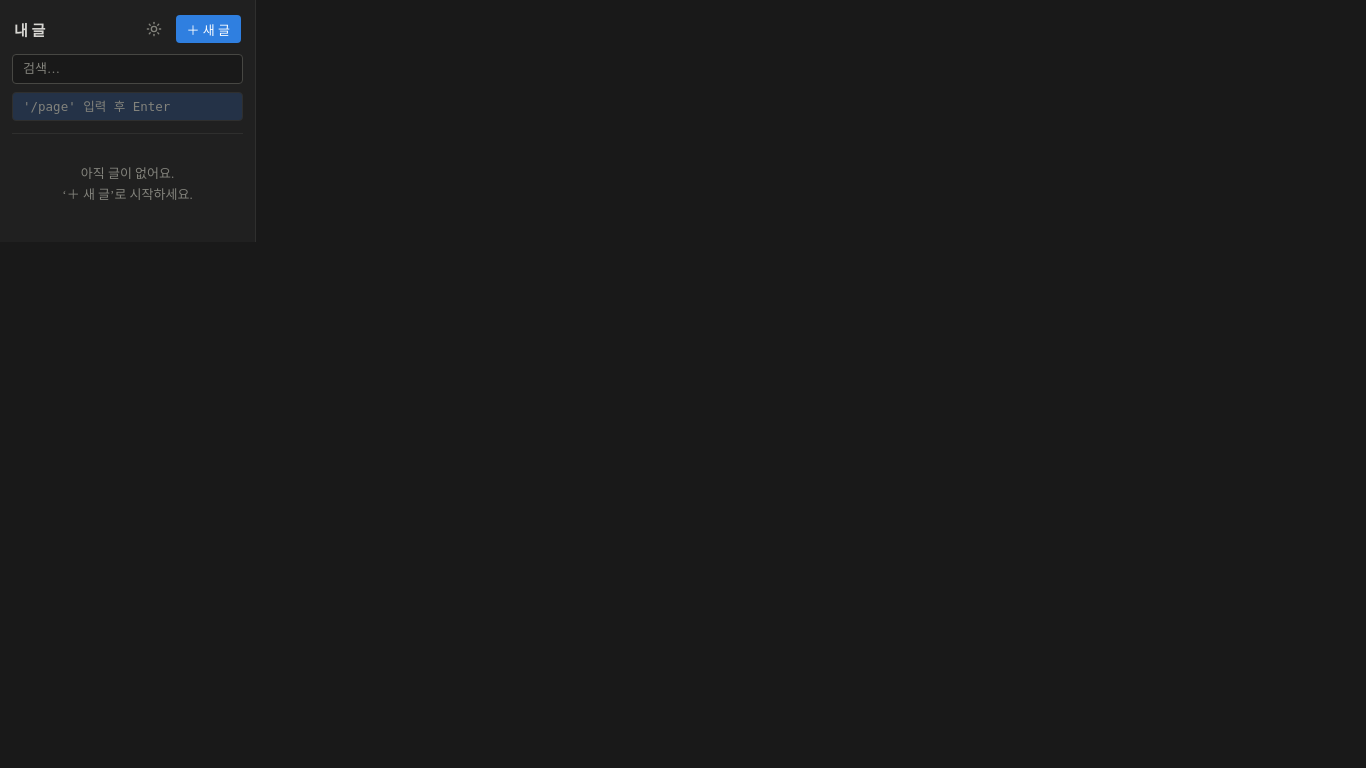
Test case: PostList — 모드 전환 토글 버튼 (C4) › 재클릭하면 다크 모드로 원복된다
Click the button named "라이트 모드로 전환". click: (154, 29)
box: [140,15,168,43]
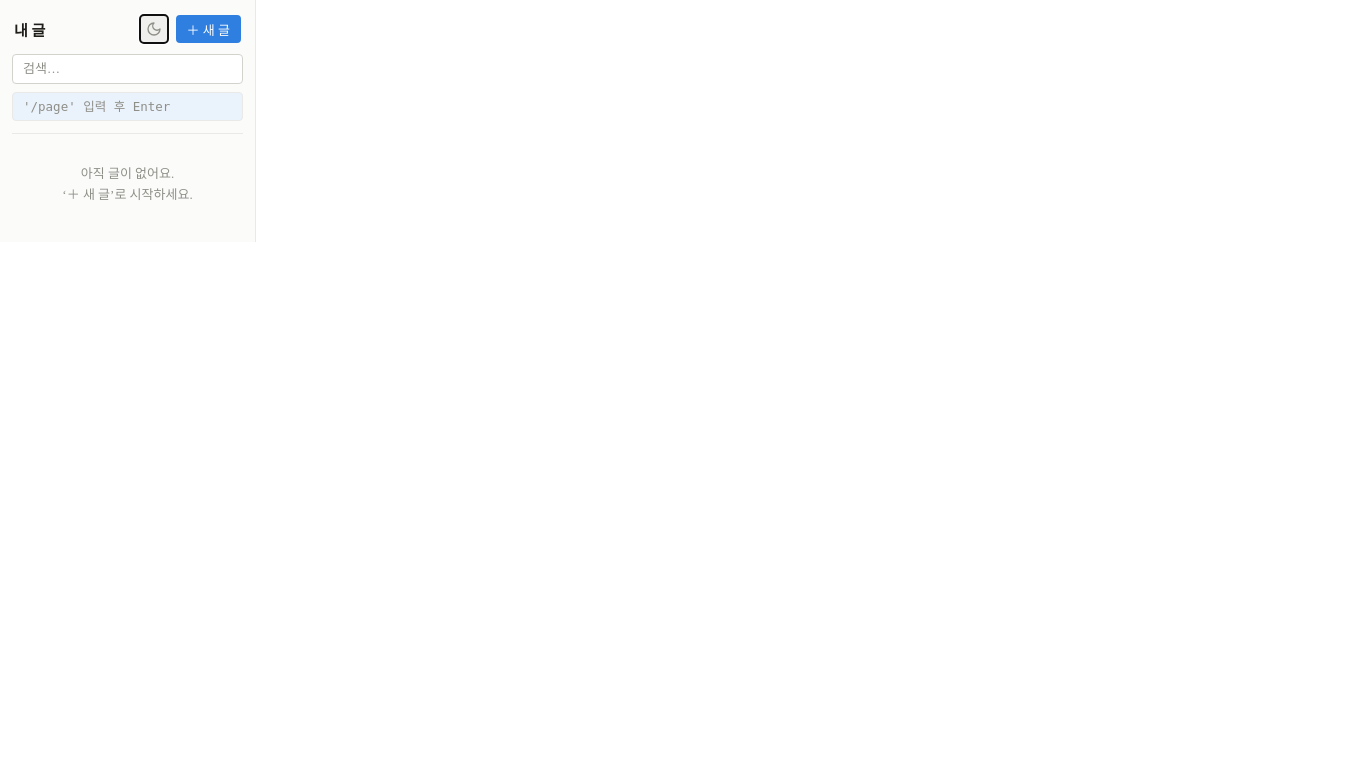
Click the button named "다크 모드로 전환". click: (154, 29)
box: [140,15,168,43]
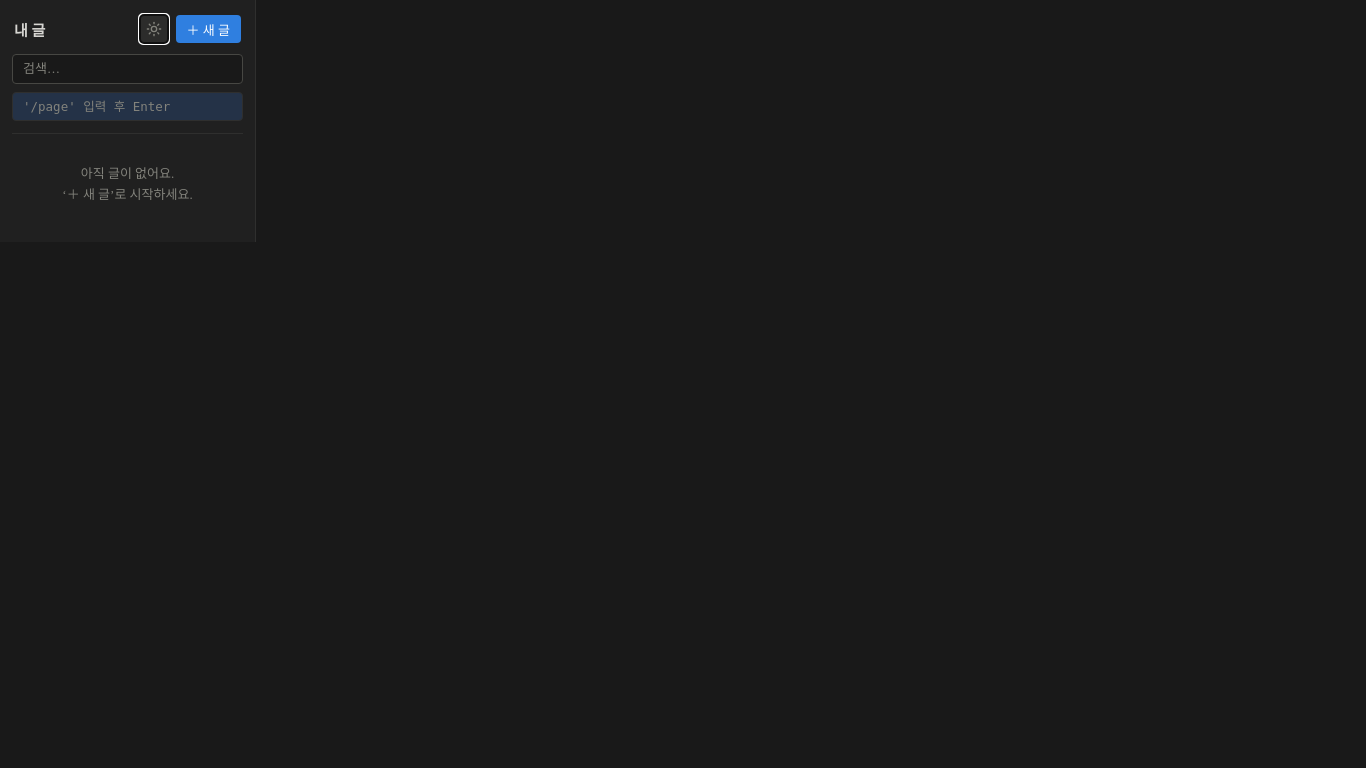
Expected: the button named "라이트 모드로 전환" is shown, [140,15,168,43]
